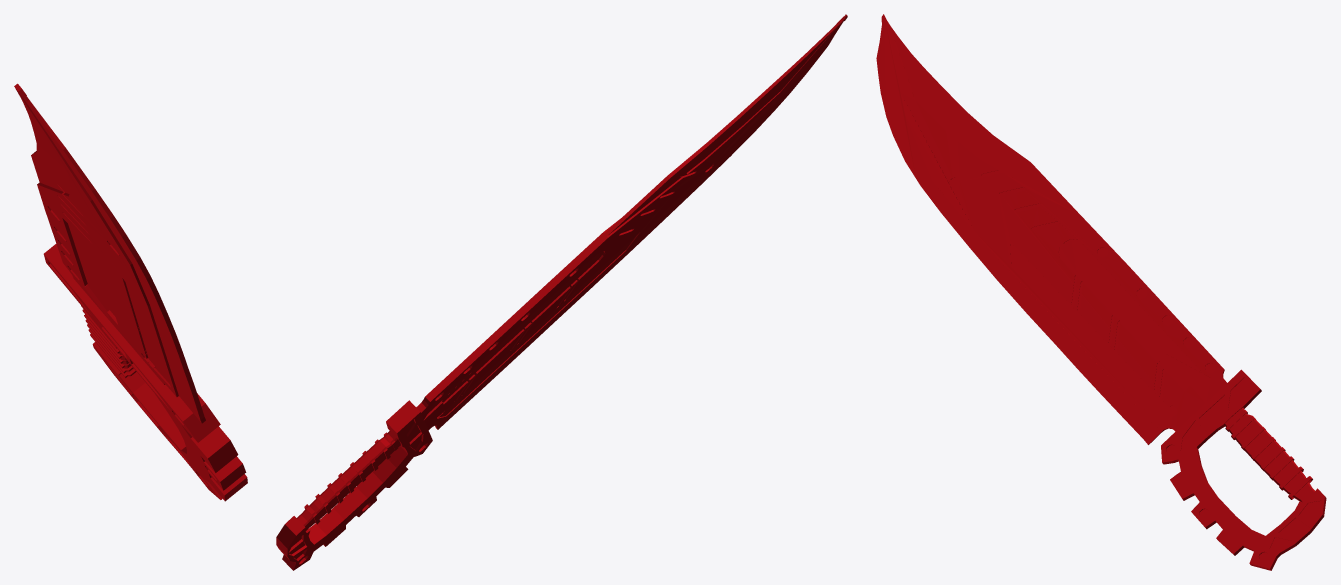
The model's file is knife.glb.
The picture shows the model from 3 angles, left to right: view 1: azimuth 30°, elevation 25°; view 2: azimuth 150°, elevation 25°; view 3: azimuth 270°, elevation 25°; orthographic projection. The views are drawn at different scales.
Parts seen in each view (by area): view 1: JasperKnife; view 2: JasperKnife; view 3: JasperKnife.
Boxes of the visible parts, bbox=[...] form: JasperKnife: bbox=[14, 83, 247, 501]; JasperKnife: bbox=[276, 14, 847, 570]; JasperKnife: bbox=[876, 14, 1326, 570].
Bounding box in the file's own units: 2.34 × 3.08 × 3.03.
